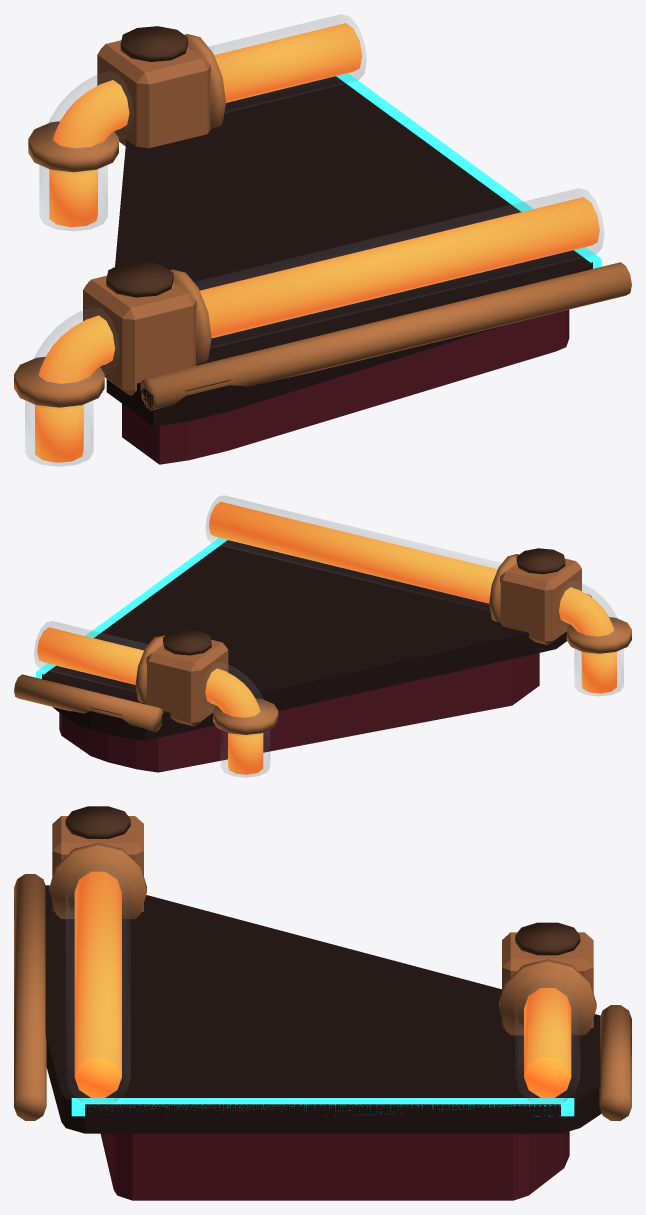
The model's file is Pier_Angled_30.glb.
The picture shows the model from 3 angles, top to bottom: view 1: azimuth 30°, elevation 25°; view 2: azimuth 150°, elevation 25°; view 3: azimuth 270°, elevation 25°; orthographic projection. The views are drawn at different scales.
Visible parts, largest first — view 1: CP_Pier_Angled_30; view 2: CP_Pier_Angled_30; view 3: CP_Pier_Angled_30.
Boxes of the visible parts, x1,y1,x2,y2 form: CP_Pier_Angled_30: [14, 14, 631, 466]; CP_Pier_Angled_30: [14, 495, 631, 777]; CP_Pier_Angled_30: [14, 806, 631, 1200].
Size of the model in its own units: 4.19 by 1.31 by 4.18.
